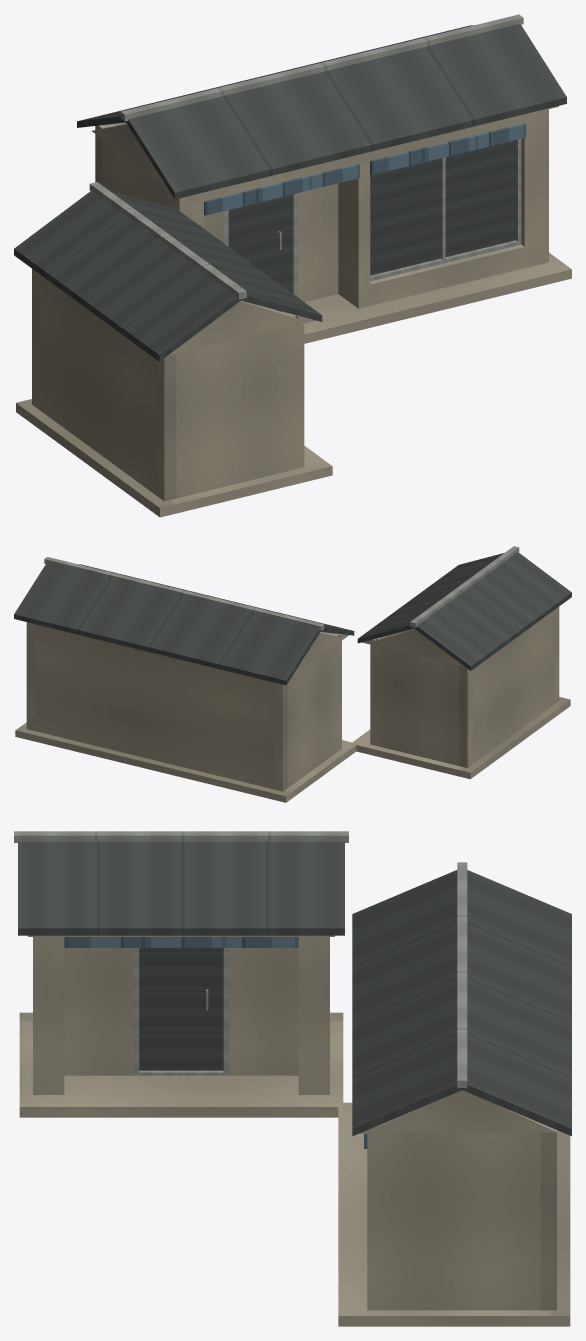
Rendered from istanbul.glb.
3 views of the same model, one above another, from view 1: azimuth 30°, elevation 25°; view 2: azimuth 150°, elevation 25°; view 3: azimuth 270°, elevation 25° (orthographic). The views are drawn at different scales.
Visible parts, largest first — view 1: istanbul; view 2: istanbul; view 3: istanbul.
Part boxes in pixels (left/top/right/bottom): istanbul: left=14, top=14, right=571, bottom=517; istanbul: left=14, top=546, right=571, bottom=802; istanbul: left=14, top=831, right=571, bottom=1326.
Size of the model in its own units: 7.93 by 3 by 6.1.
1 material, 1 textured.
